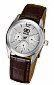watch: (3, 18, 51, 61)
